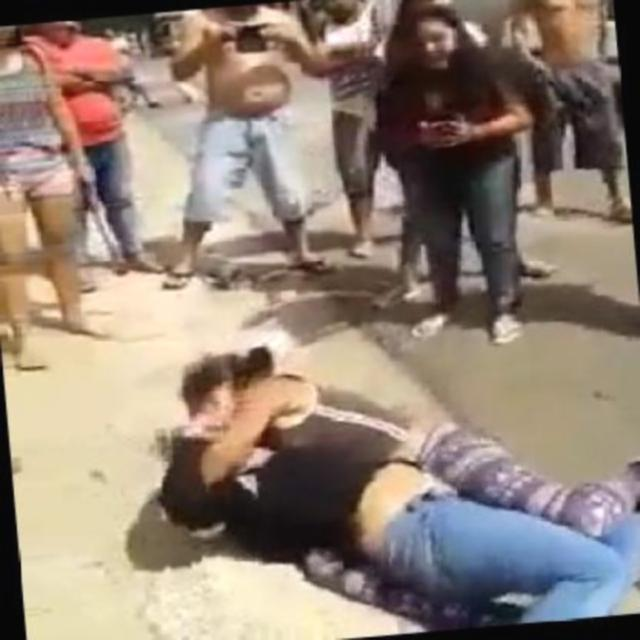fight: (162, 320, 638, 638)
non-fight: (364, 0, 558, 351)
